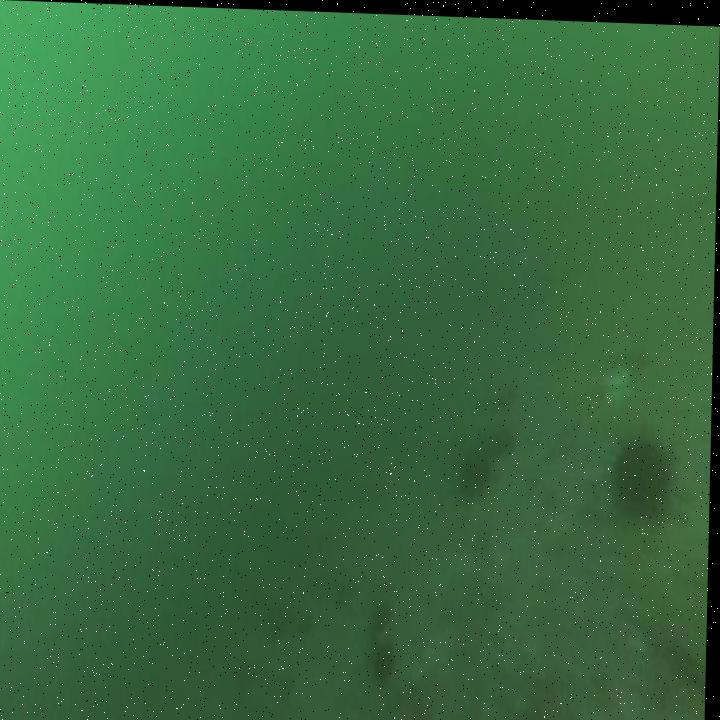echinus: (616, 432, 674, 518), (464, 444, 491, 496), (488, 423, 514, 456), (375, 639, 397, 677), (370, 593, 391, 625)
